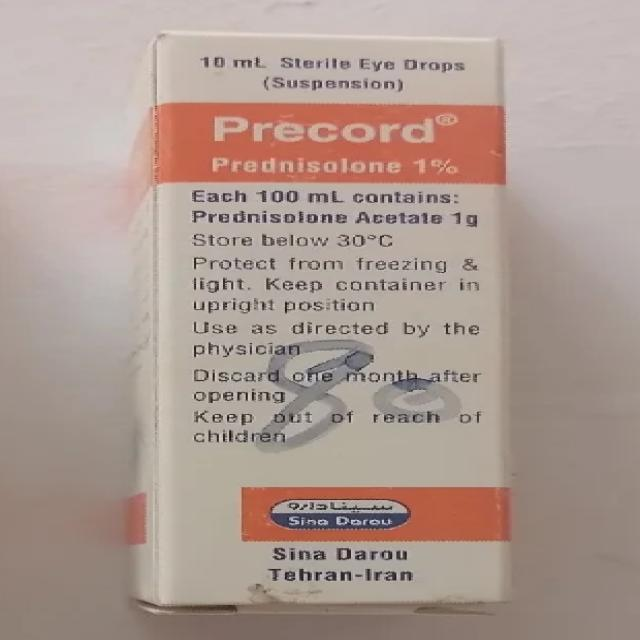drug-name: (213, 106, 435, 146)
